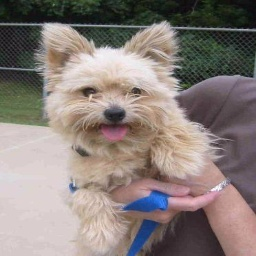dog: (40, 25, 214, 251)
